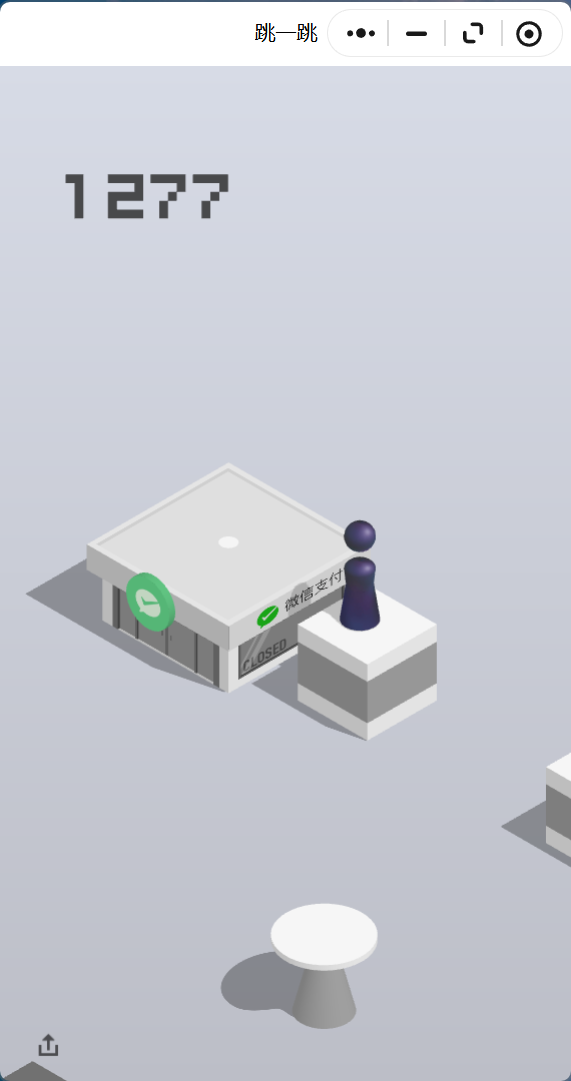piece: (345, 521, 375, 628)
target: (88, 462, 368, 625)
